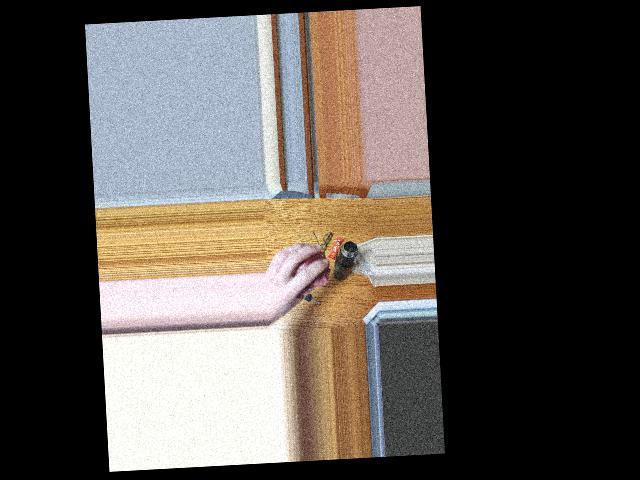onion: (287, 249, 323, 296)
